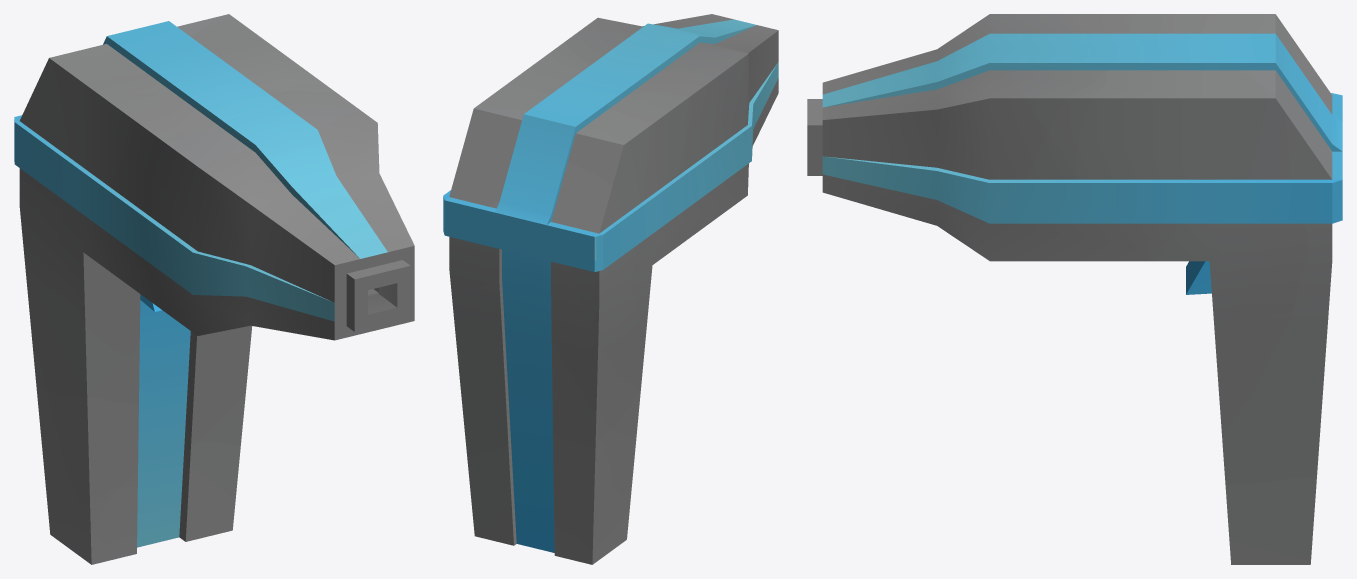
File: gun.fbx
3 views of the same model, side by side, from view 1: azimuth 30°, elevation 25°; view 2: azimuth 150°, elevation 25°; view 3: azimuth 270°, elevation 25° (orthographic). The views are drawn at different scales.
Parts seen in each view (by area): view 1: Plane; view 2: Plane; view 3: Plane.
Boxes of the visible parts, bbox=[...] form: Plane: bbox=[14, 14, 414, 564]; Plane: bbox=[443, 14, 778, 564]; Plane: bbox=[807, 14, 1342, 564].
Size of the model in its own units: 213 by 534 by 536.
1 material, 1 textured.
